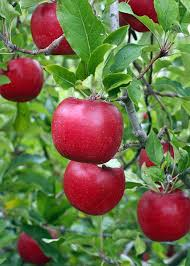apple: (53, 97, 123, 163), (65, 160, 125, 214), (139, 190, 190, 241), (31, 2, 76, 53), (1, 58, 43, 99)
